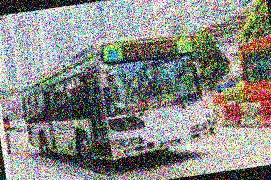bus: (14, 28, 212, 175), (234, 36, 271, 130)
